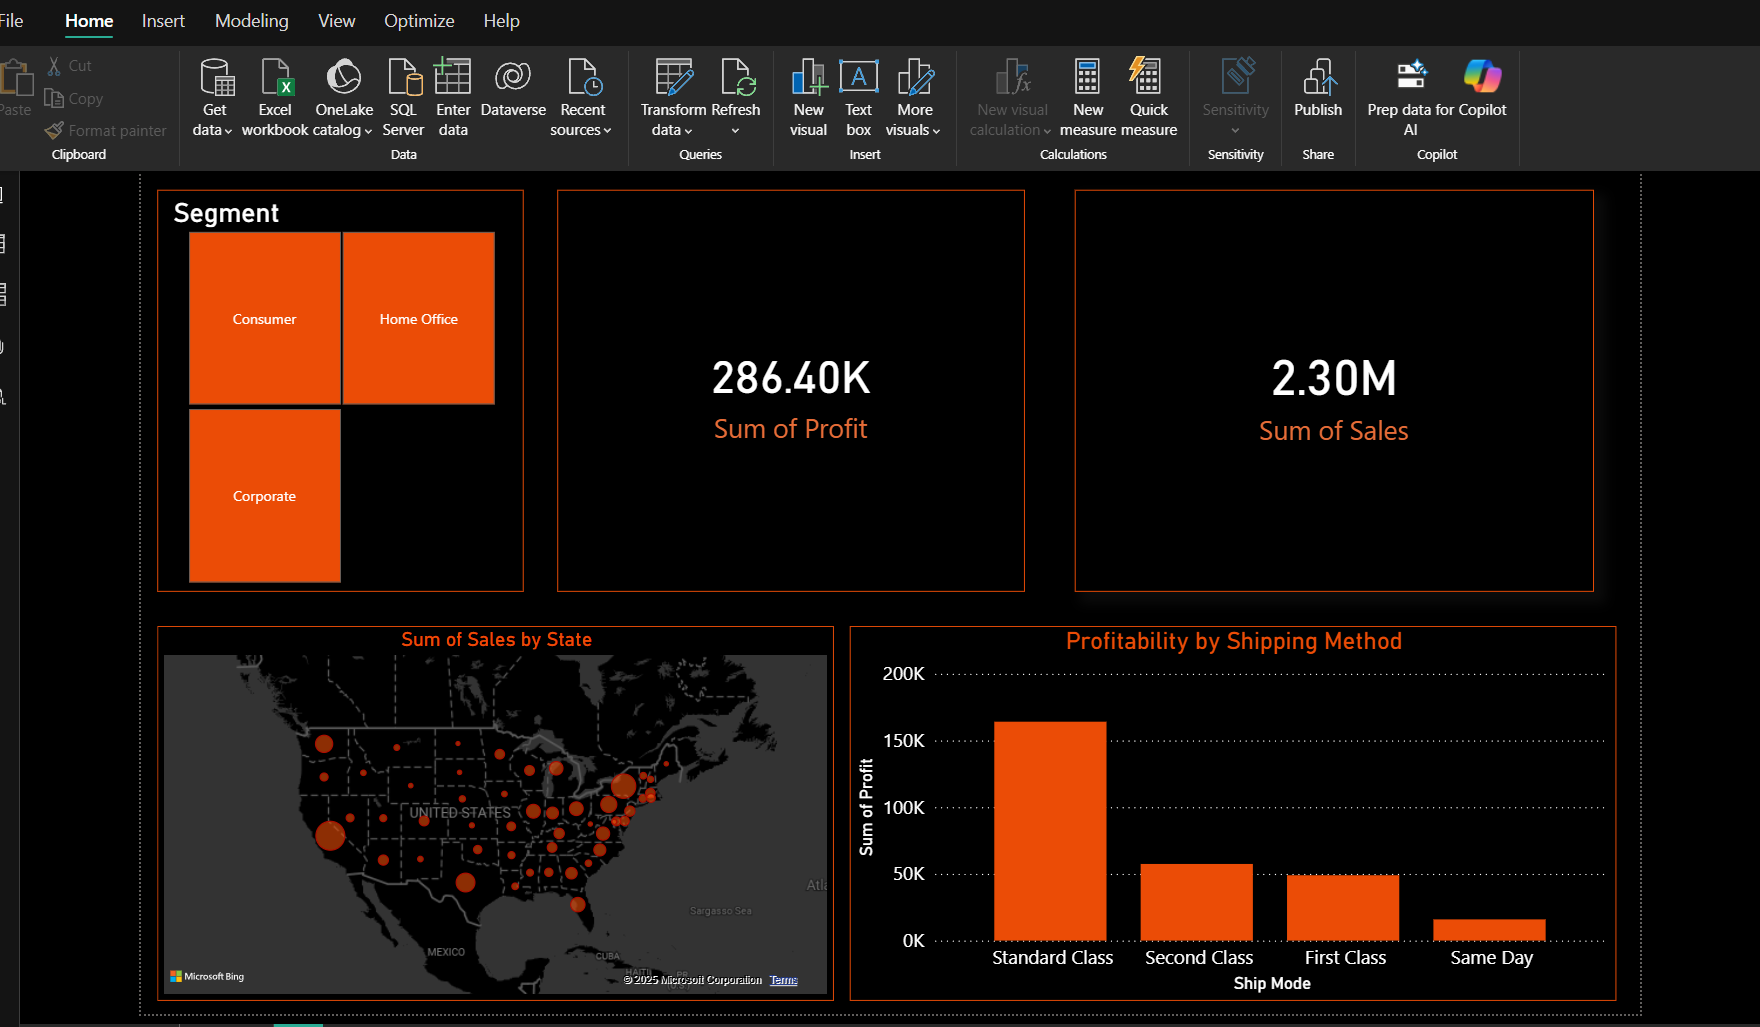

What the dashboard file says about the page in this screenshot:
{"tool":"powerbi","page":{"name":"Page 1","canvas":[1280,720],"ordinal":0},"visuals":[{"type":"card","fields":{"Values":["Sum(SampleSuperstore.Sales)"]},"box":[797.3,16.5,443.2,343.1],"z":0},{"type":"card","fields":{"Values":["Sum(SampleSuperstore.Profit)"]},"box":[355.4,16.5,399.3,343.1],"z":1000},{"type":"map","fields":{"Category":["SampleSuperstore.State"],"Size":["Sum(SampleSuperstore.Sales)"]},"box":[13.7,388.3,577.7,319.7],"z":2000},{"type":"clusteredColumnChart","title":"Profitability by Shipping Method","fields":{"Category":["SampleSuperstore.Ship Mode"],"Y":["Sum(SampleSuperstore.Profit)"]},"box":[605.1,388.3,654.5,319.7],"z":2001},{"type":"slicer","fields":{"Values":["SampleSuperstore.Segment"]},"box":[13.7,16.5,312.9,343.1],"z":2002}]}

Visuals, with their boxes on the page's 1280x720 design canvas (x1, y1, x2, y2). These are canvas units, not pixel positions in the 1760x1027 screenshot, which may show the page scaled, cropped or inside an application window:
card - Sum(SampleSuperstore.Sales): {"left": 797, "top": 16, "right": 1240, "bottom": 360}
card - Sum(SampleSuperstore.Profit): {"left": 355, "top": 16, "right": 755, "bottom": 360}
map - SampleSuperstore.State x Sum(SampleSuperstore.Sales): {"left": 14, "top": 388, "right": 591, "bottom": 708}
"Profitability by Shipping Method" clusteredColumnChart: {"left": 605, "top": 388, "right": 1260, "bottom": 708}
slicer - SampleSuperstore.Segment: {"left": 14, "top": 16, "right": 327, "bottom": 360}
